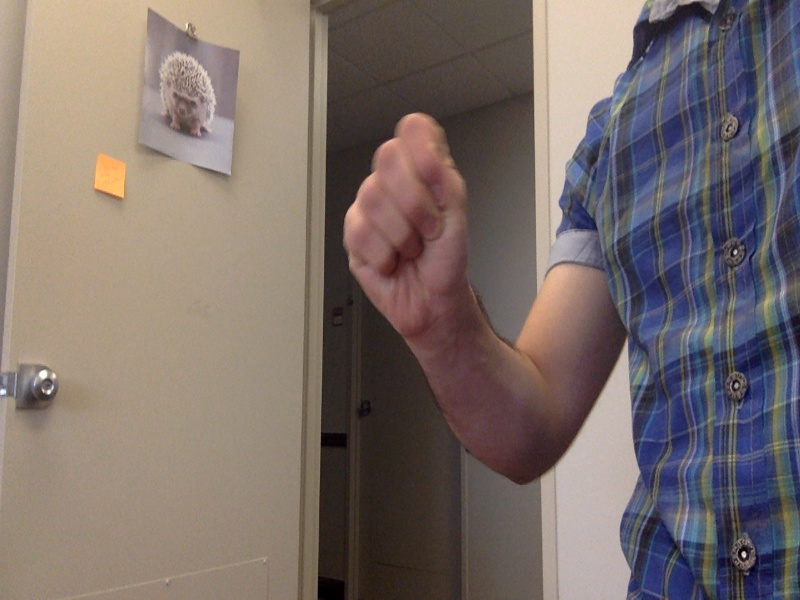0-hand: (336, 109, 468, 334)
